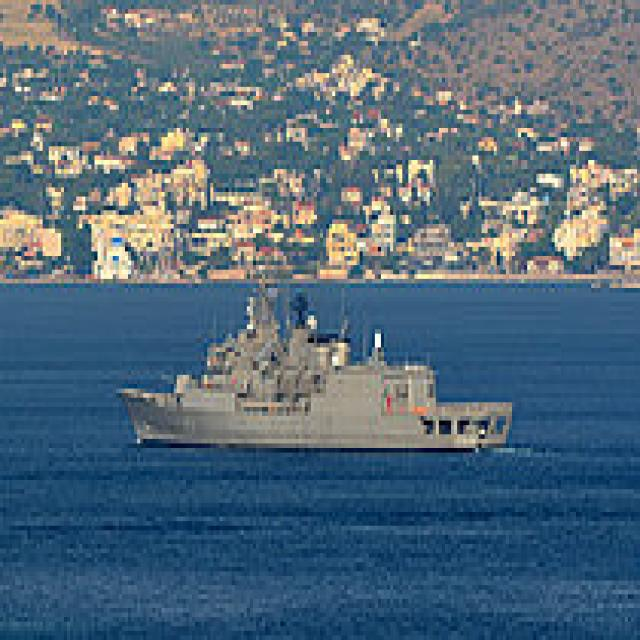Warship: (110, 260, 512, 452)
